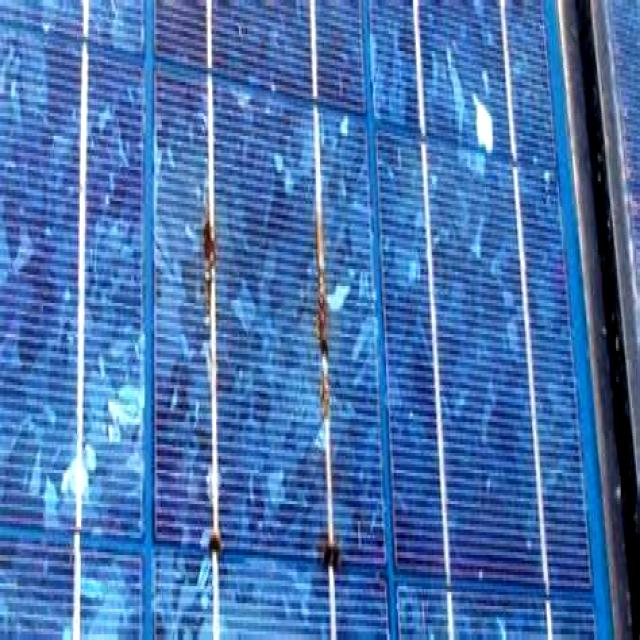shadow: (288, 188, 368, 594), (180, 182, 232, 578)
